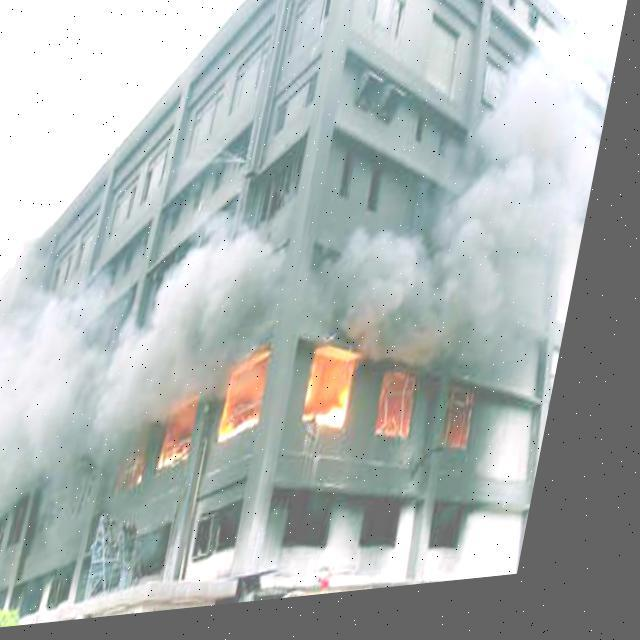Fire: (319, 346, 376, 442), (234, 358, 290, 449), (388, 372, 438, 450), (169, 408, 217, 480)
